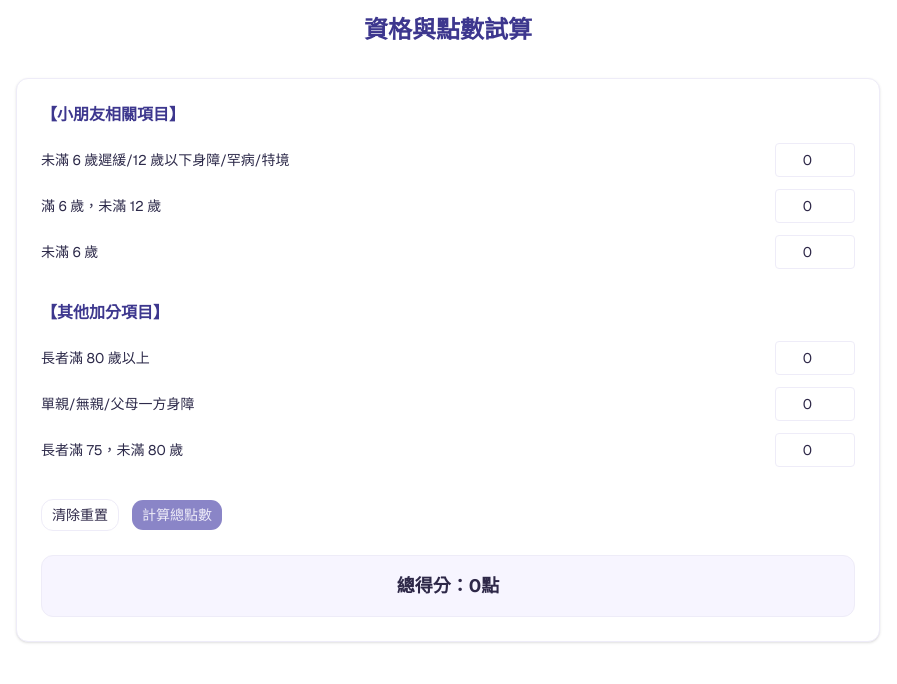
Test: EligibilityCalculator › resets form when reset button clicked
Replace the text in the number field labelled "未滿 6 歲遲緩/12 歲以下身障/罕病/特境" with "2" at (815, 160), box [775,143,855,177]
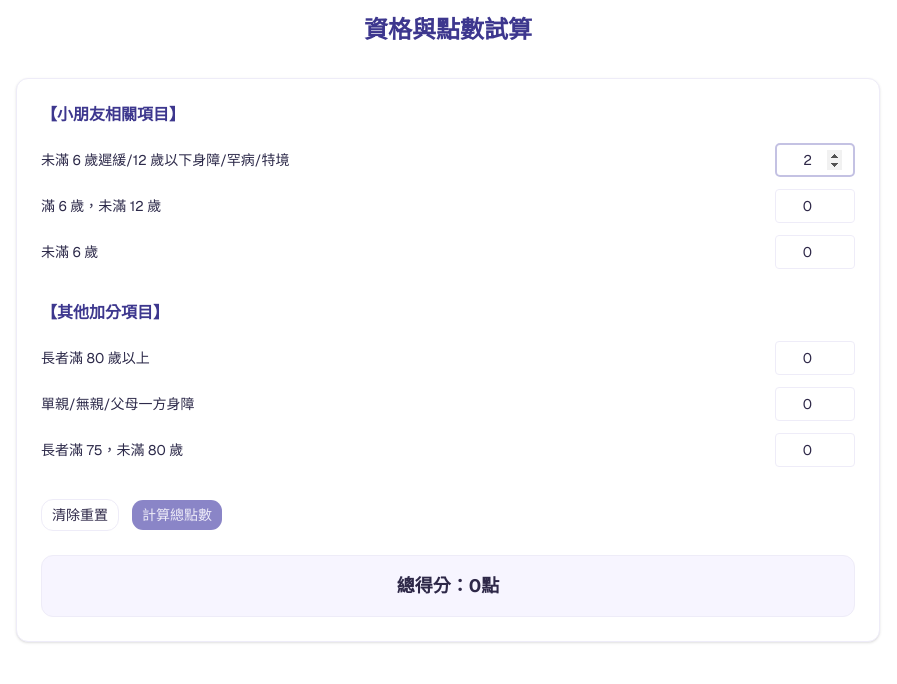
Click the button "計算總點數" at (177, 515), box [131,499,223,531]
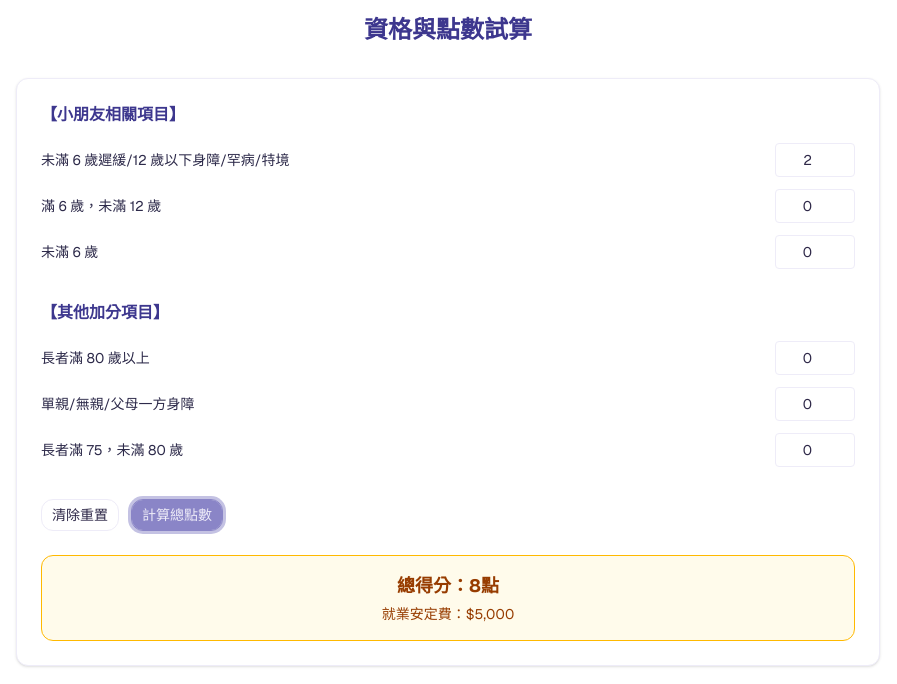
Click the button "清除重置" at (80, 515), box [41,499,119,531]
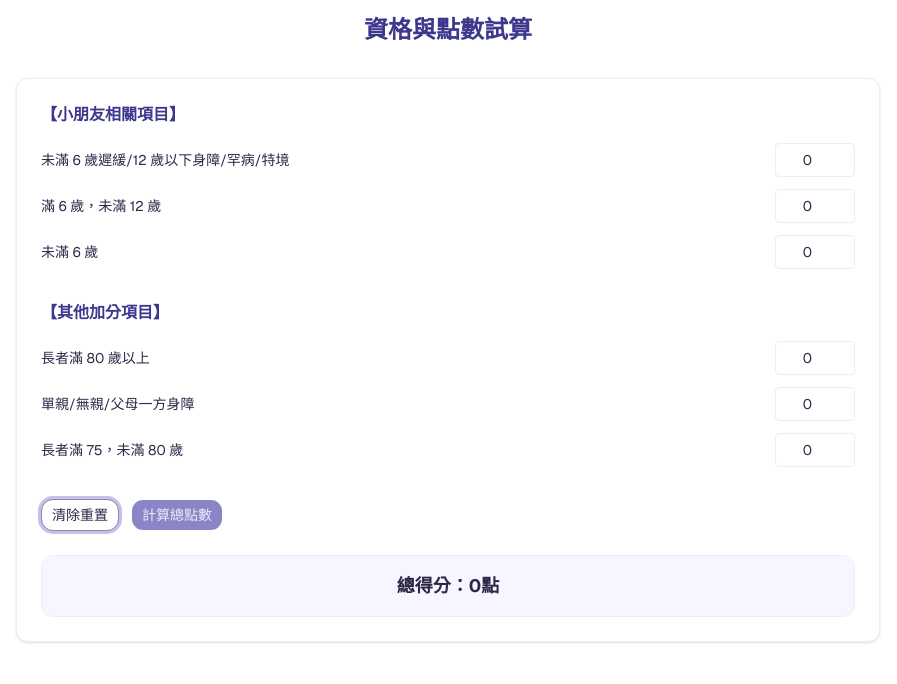
Expected: the number field labelled "滿 6 歲，未滿 12 歲" holds "0", [775,189,855,223]
Result: the text "總得分：0點" is shown at [397,574,499,597]
Result: the number field labelled "未滿 6 歲遲緩/12 歲以下身障/罕病/特境" holds "0" at [775,143,855,177]
